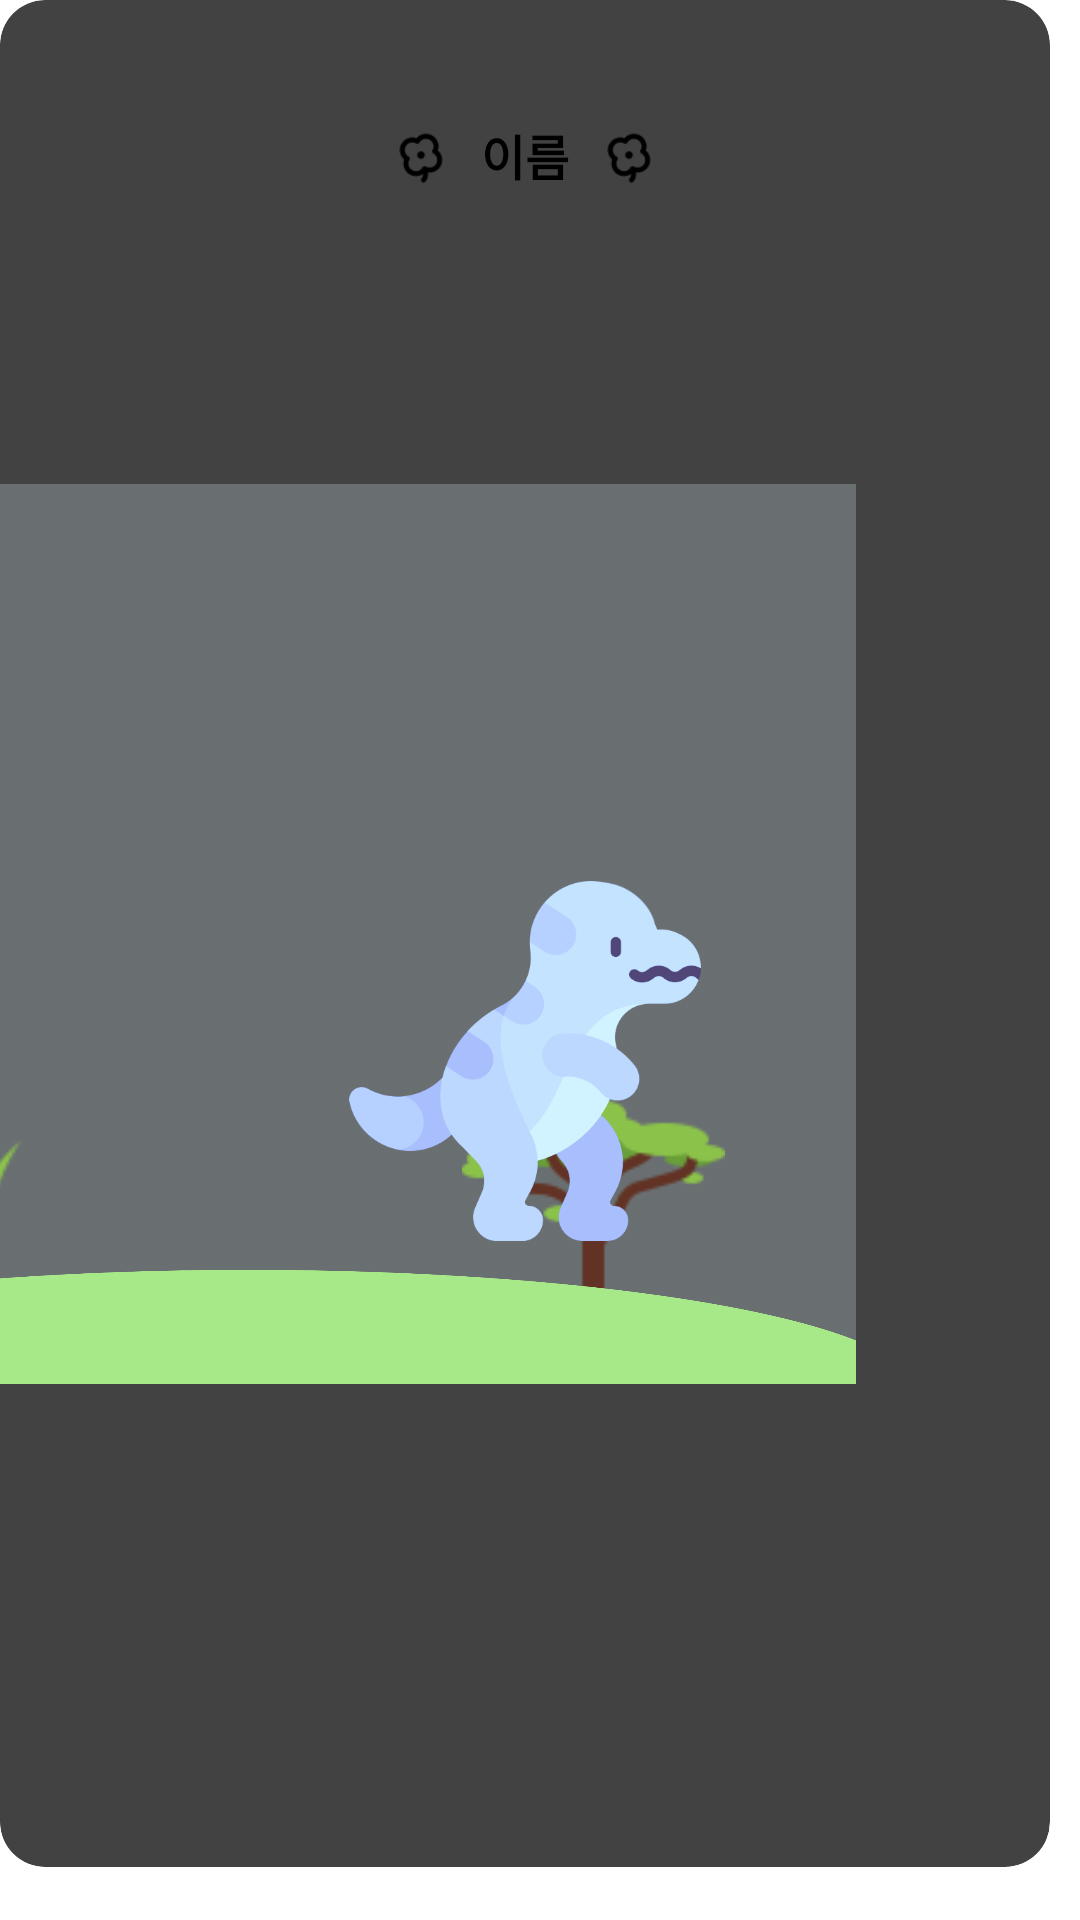

Screen size 1080*1920. Icon name, then its center in pixels as (x,y):
onboding flower: (421,158), (629,158)
